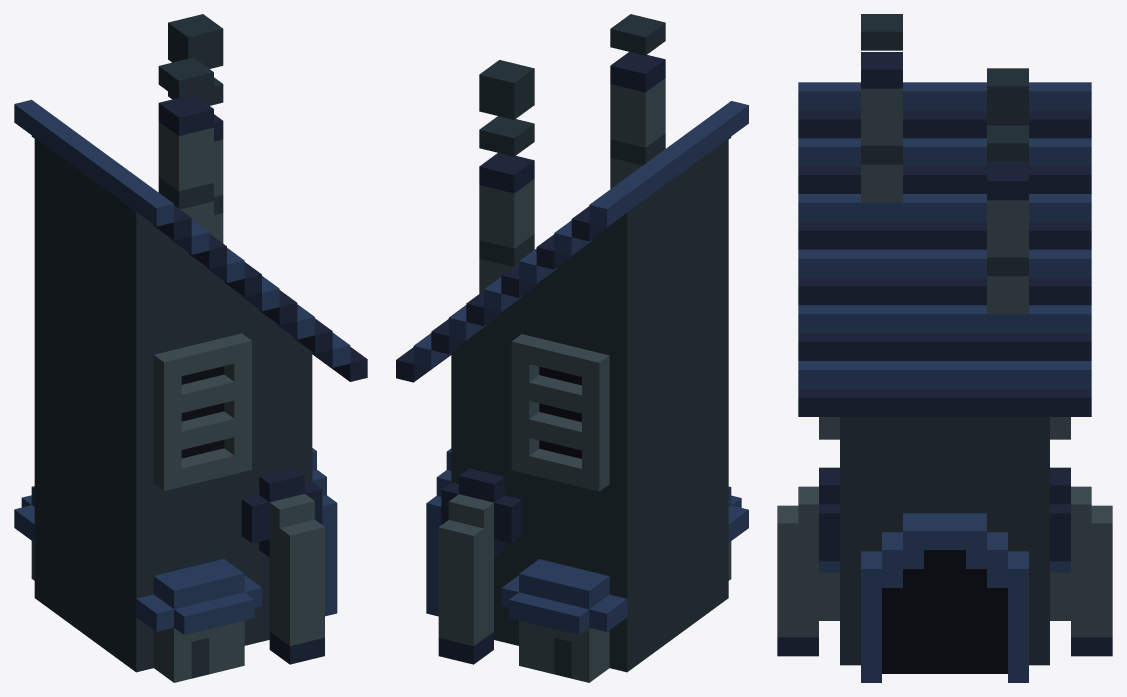
The model's file is BuildingFactoryBlue.obj.
The picture shows the model from 3 angles, left to right: view 1: azimuth 30°, elevation 25°; view 2: azimuth 150°, elevation 25°; view 3: azimuth 270°, elevation 25°; orthographic projection. The views are drawn at different scales.
Size of the model in its own units: 1.2 by 3.1 by 1.6.
Materials: 1 (1 with a texture image).
